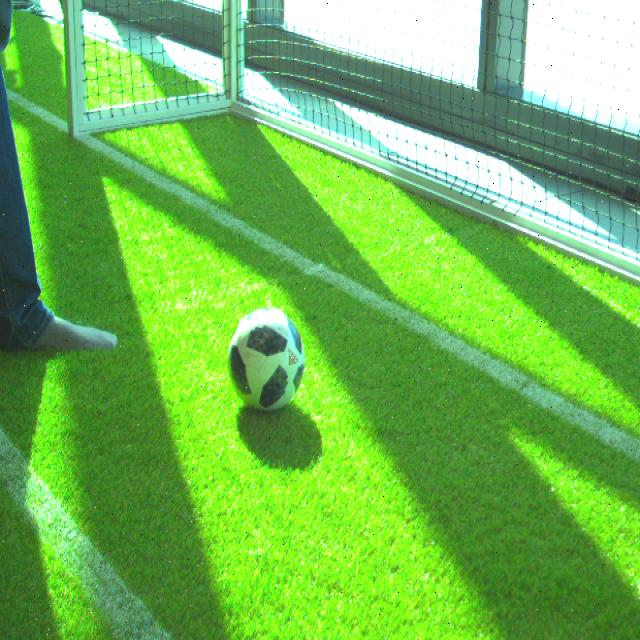ball: (226, 308, 305, 413)
goalpost: (63, 1, 87, 136)
